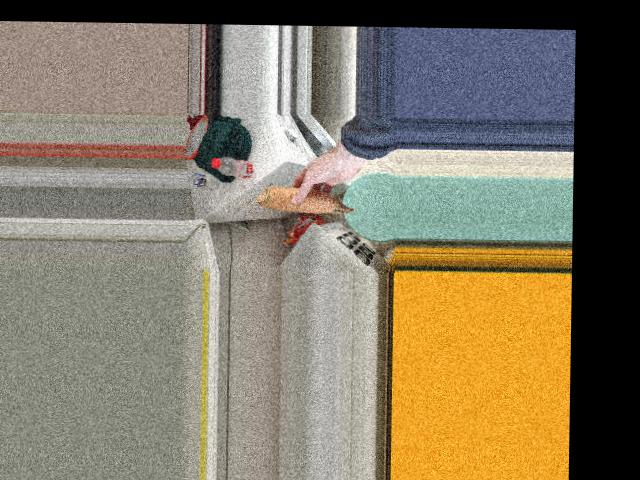sweet_potato: (253, 179, 355, 216)
